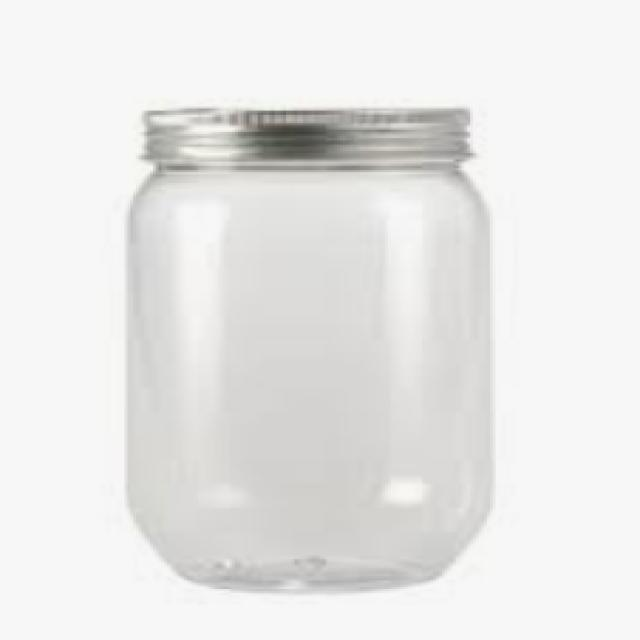ToplesKaca: (122, 104, 496, 593)
